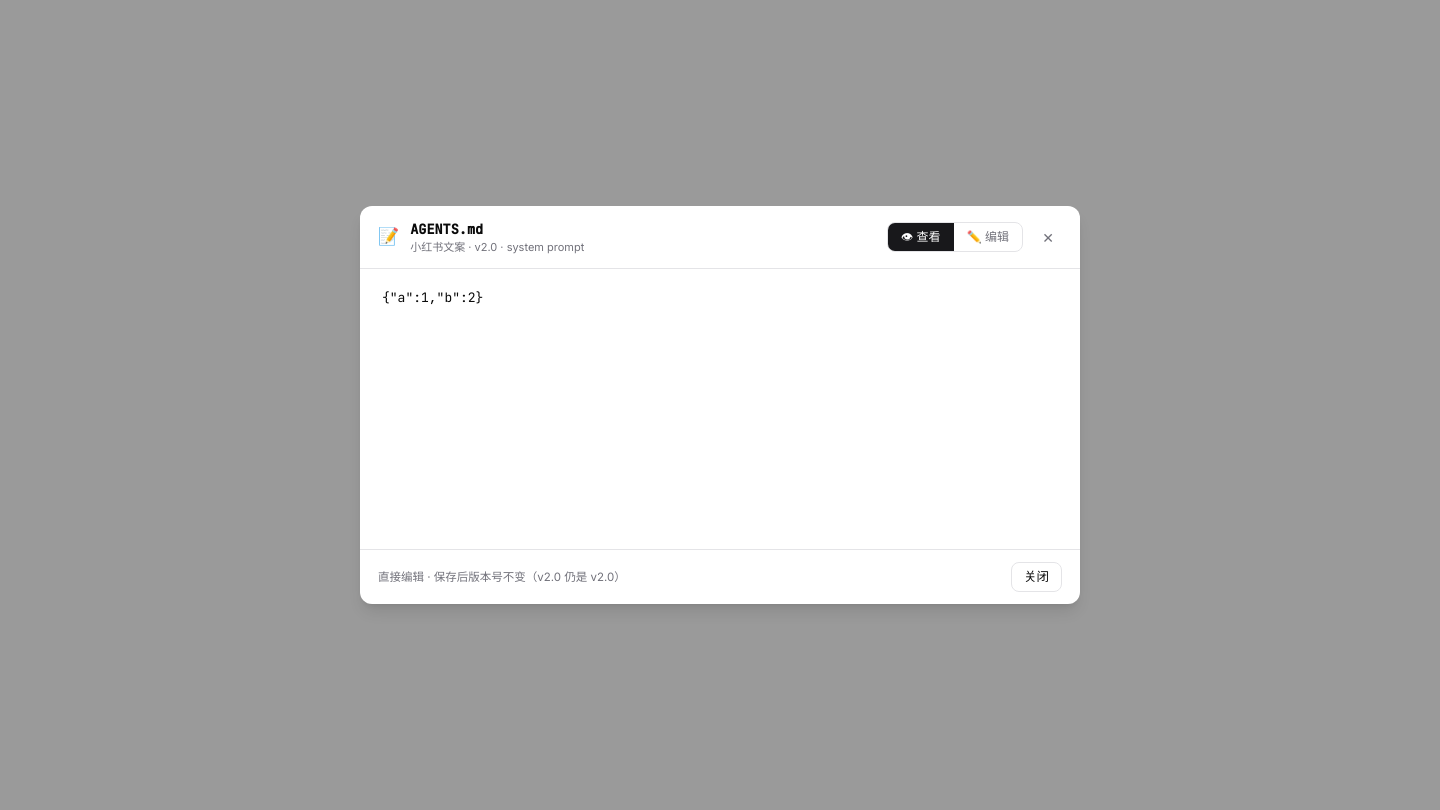
Test case: ComponentModalMdEditor — v0.0.241 format 分流 › handleFormat 成功替换 draft + 显「✓ 格式正确」（pretty 反馈）
Click the button "✏️ 编辑".
click(988, 237)  # box [954, 223, 1022, 251]
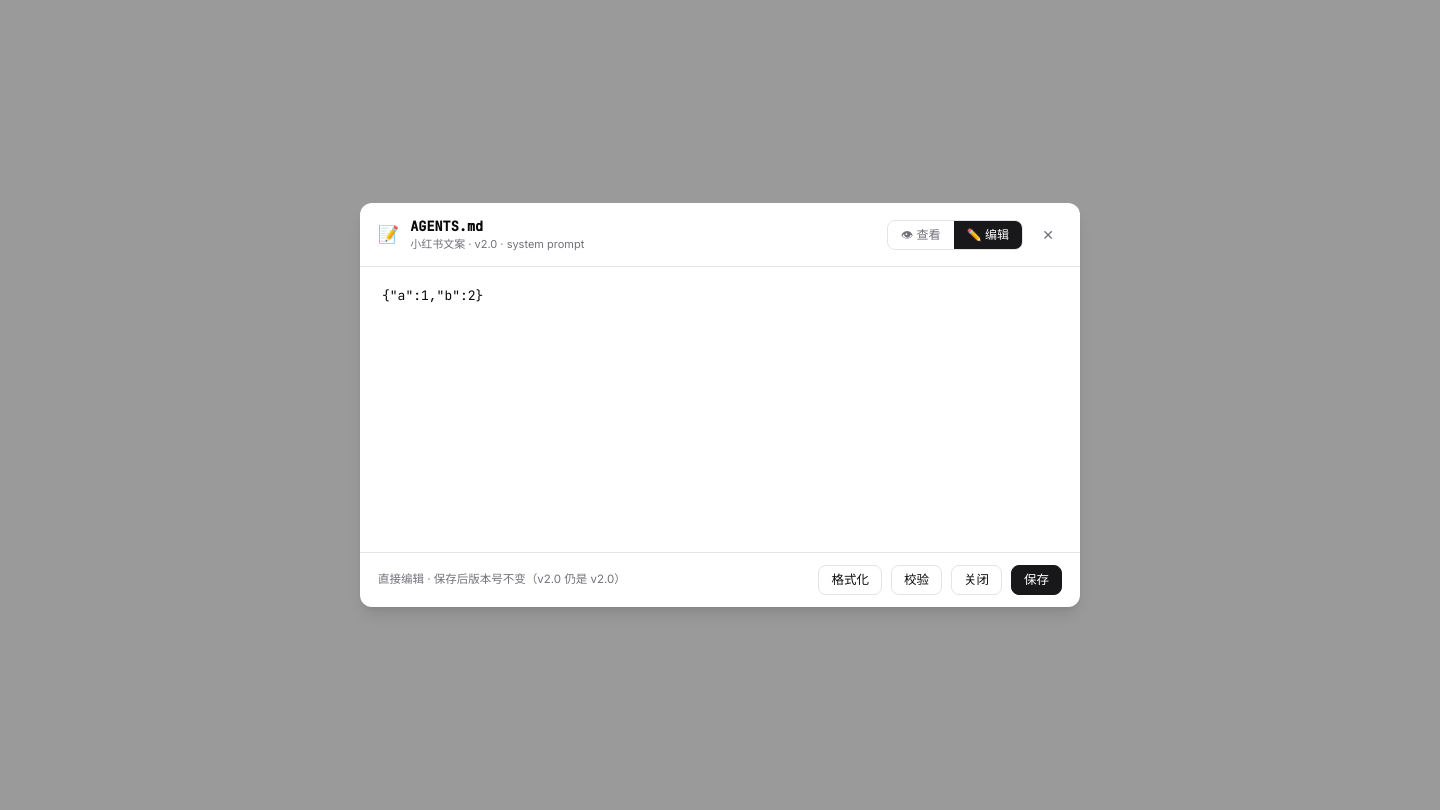
Click the button "格式化".
click(850, 580)  # box [818, 565, 882, 595]
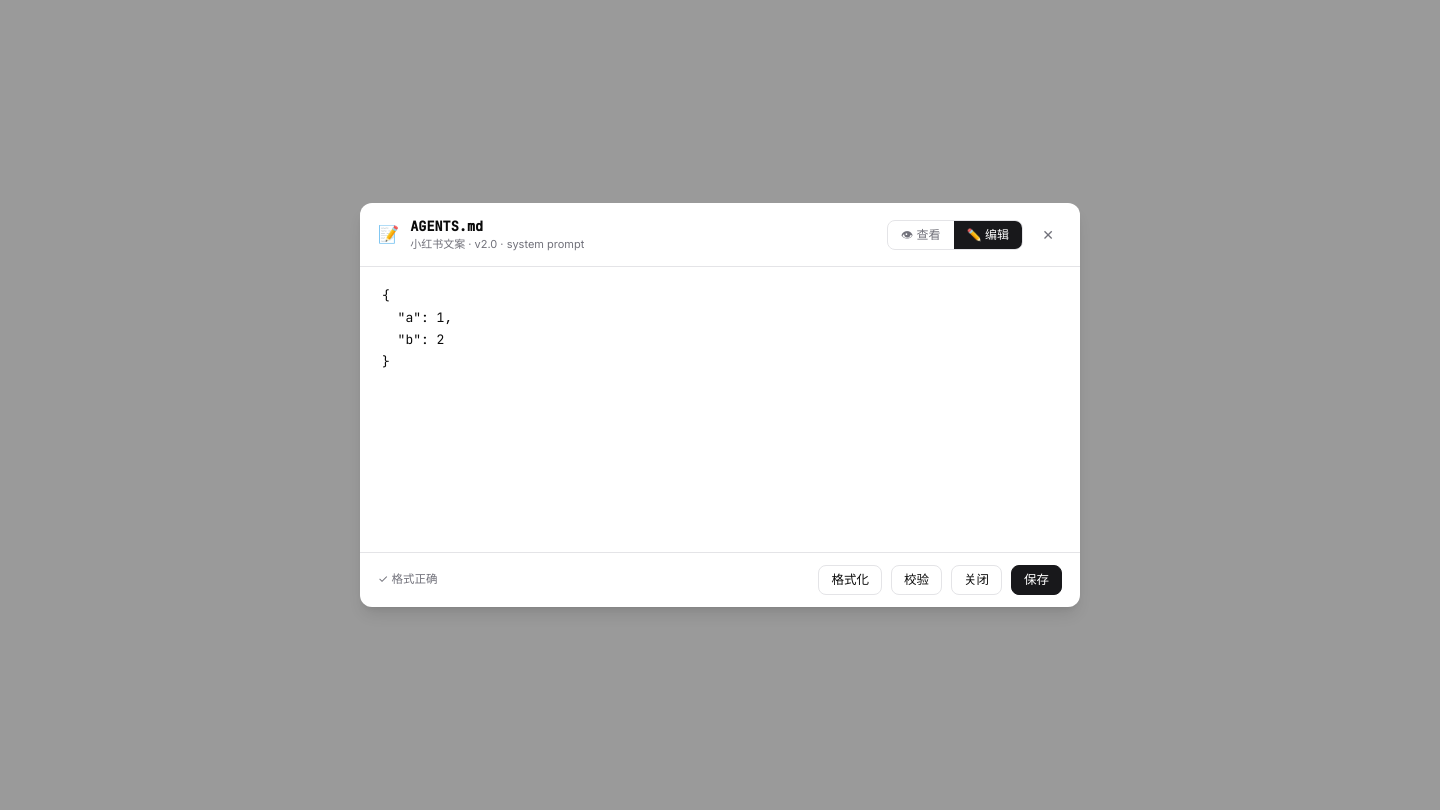
Result: the text "✓ 格式正确" is shown at [378, 572, 437, 586]
